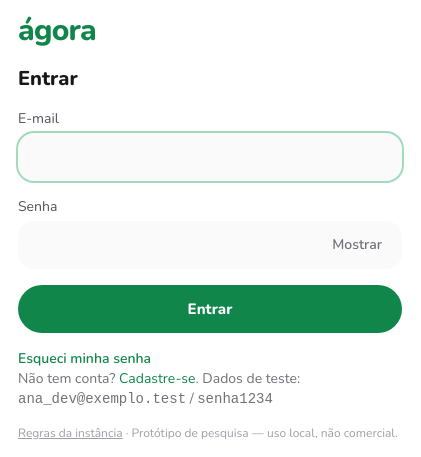
recuperar senha › o login leva a "Esqueci minha senha", que pede o e-mail e mostra a mesma mensagem para qualquer e-mail
The width and height of the screenshot is (421, 457).
Click the link "Esqueci minha senha" at (85, 358), box [18,349,151,368]
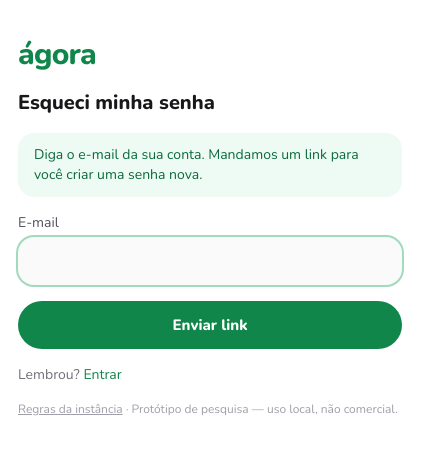
Type " nina@exemplo.test " into the field labelled "E-mail" at (210, 261), box [18,237,402,285]
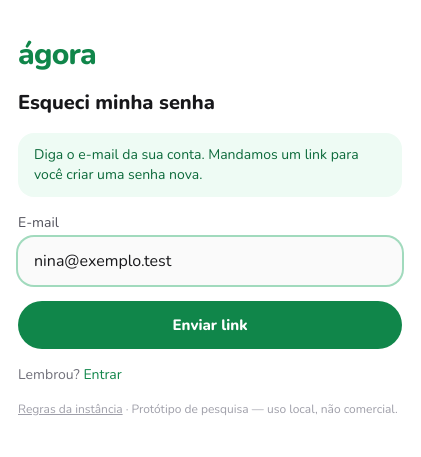
Click the button "Enviar link" at (210, 325), box [18,301,402,349]
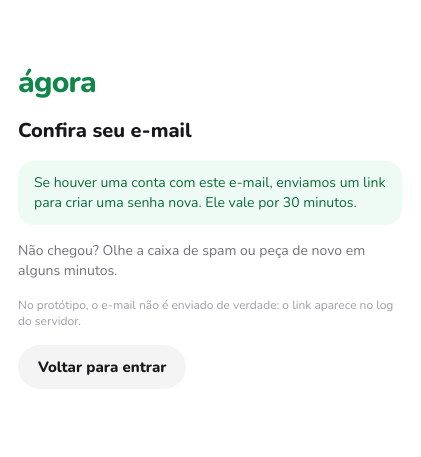
Now the message shows "Se houver uma conta com este e-mail, enviamos um link para criar uma senha nova. Ele vale por 30 minutos.", box [34,173,386,212]
